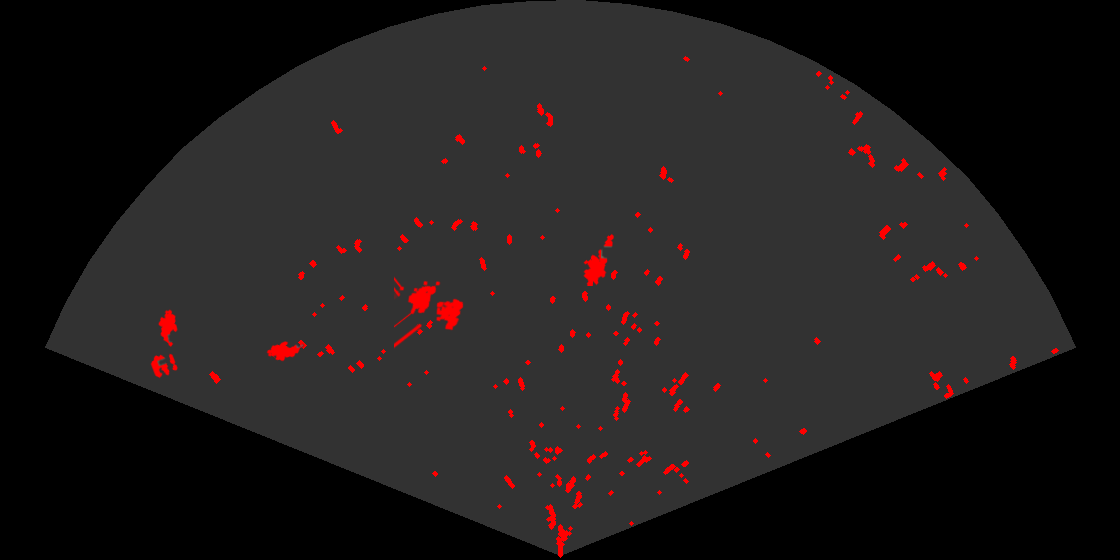AUV: (265, 340, 305, 363), (157, 308, 179, 349)
ball: (149, 352, 179, 380)
cage: (394, 275, 465, 349)
frogman: (582, 232, 615, 286)
